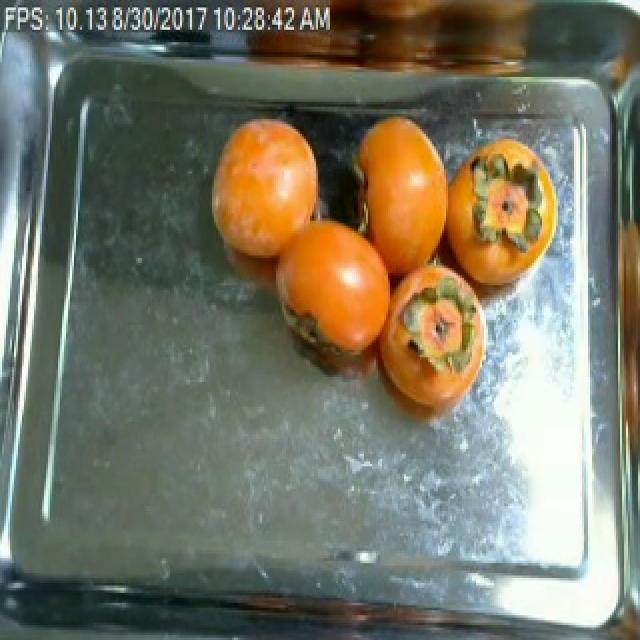Fruit: (338, 102, 462, 290), (196, 110, 332, 270)
